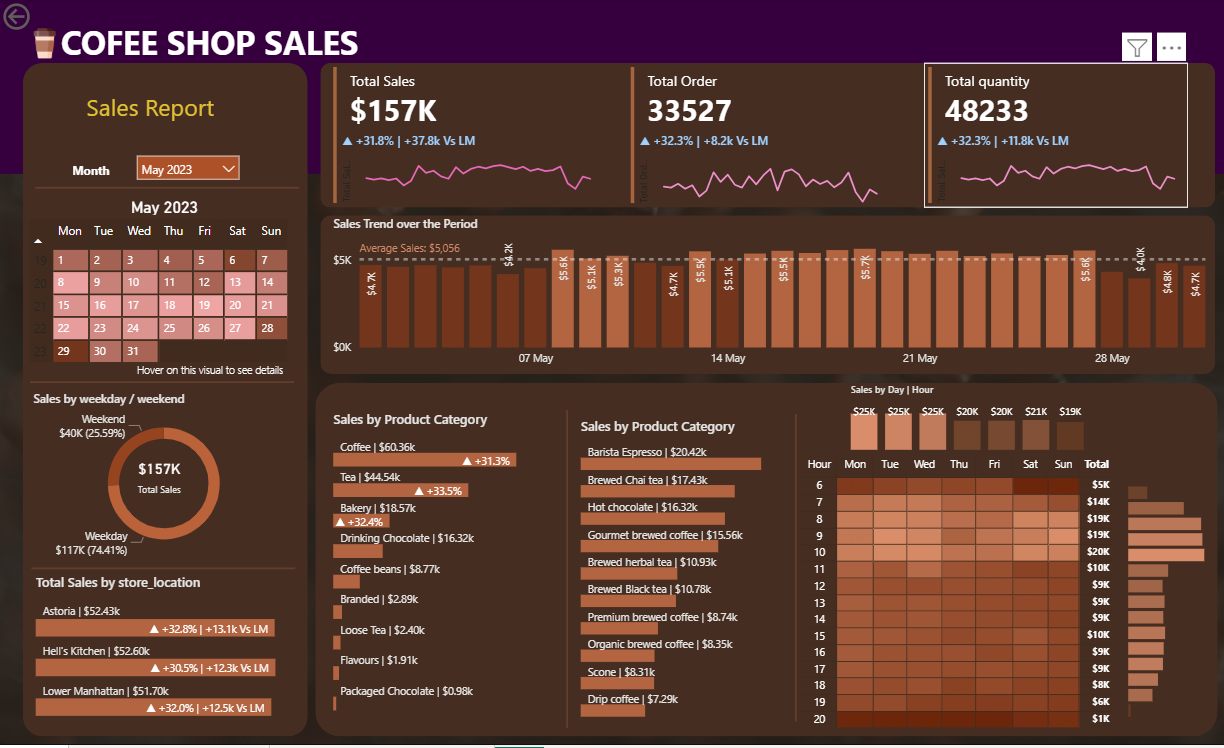

The dashboard page shown, as its layout file describes it:
{"tool":"powerbi","page":{"name":"Page 1","canvas":[1400,850],"ordinal":0},"visuals":[{"type":"shape","box":[0,0,1399.6,199.3],"z":0},{"type":"cardVisual","fields":{"Data":["Transactions.Total Sales"]},"box":[375.9,72.6,313.2,165.2],"z":0,"group":"g2"},{"type":"cardVisual","fields":{"Data":["Transactions.Total Order"]},"box":[714.7,72.6,300.4,165.2],"z":0,"group":"g3"},{"type":"cardVisual","fields":{"Data":["Transactions.Total quantity"]},"box":[1053.6,72.6,300.4,165.2],"z":0,"group":"g4"},{"type":"shape","box":[27.1,72.6,324.6,767.4],"z":1000},{"type":"lineChart","fields":{"Category":["Date Table.Date.Variation.Date Hierarchy.Year","Date Table.Date.Variation.Date Hierarchy.Quarter","Date Table.Date.Variation.Date Hierarchy.Month","Date Table.Date.Variation.Date Hierarchy.Day"],"Y":["Transactions.Total Sales"]},"box":[386.3,152.3,302.8,85.4],"z":1000,"group":"g2"},{"type":"lineChart","fields":{"Category":["Date Table.Date.Variation.Date Hierarchy.Year","Date Table.Date.Variation.Date Hierarchy.Quarter","Date Table.Date.Variation.Date Hierarchy.Month","Date Table.Date.Variation.Date Hierarchy.Day"],"Y":["Transactions.Total Order"]},"box":[724.7,152.3,290.5,85.4],"z":1000,"group":"g3"},{"type":"lineChart","fields":{"Category":["Date Table.Date.Variation.Date Hierarchy.Year","Date Table.Date.Variation.Date Hierarchy.Quarter","Date Table.Date.Variation.Date Hierarchy.Month","Date Table.Date.Variation.Date Hierarchy.Day"],"Y":["Transactions.Total Sales"]},"box":[1063.6,152.3,290.5,85.4],"z":1000,"group":"g4"},{"type":"shape","box":[365.9,72.6,1019.4,165.2],"z":2000},{"type":"textbox","box":[65.5,180.8,78.3,28.5],"z":3000},{"type":"slicer","fields":{"Values":["Date Table.month year"]},"box":[146.6,173.7,132.4,32.7],"z":4000},{"type":"actionButton","box":[0,0,100,40],"z":5000},{"type":"group","id":"g1","title":"Group 1","box":[375.9,72.6,313.2,165.2],"z":6000},{"type":"group","id":"g2","title":"Group 2","box":[375.9,72.6,313.2,165.2],"z":6001,"group":"g1"},{"type":"group","id":"g3","title":"Group 2","box":[714.7,72.6,300.4,165.2],"z":6001,"group":"g5"},{"type":"group","id":"g4","title":"Group 2","box":[1053.6,72.6,300.4,165.2],"z":6001,"group":"g6"},{"type":"group","id":"g5","title":"Group 1","box":[714.7,72.6,300.4,165.2],"z":7000},{"type":"group","id":"g6","title":"Group 1","box":[1053.6,72.6,300.4,165.2],"z":8000},{"type":"pivotTable","fields":{"Columns":["Date Table.Day Name"],"Rows":["Date Table.Week Number"],"Values":["Min(Date Table.Day Number)"]},"box":[29.9,246.3,321.8,187.9],"z":9000},{"type":"card","fields":{"Values":["Min(Date Table.month year)"]},"box":[136.7,223.5,103.9,27.1],"z":10000},{"type":"card","fields":{"Values":["Transactions.Foot Note"]},"box":[121,411.5,239.2,28.5],"z":11000},{"type":"shape","box":[37,640.7,300.4,15.7],"z":12000},{"type":"shape","box":[41.3,206.4,300.4,17.1],"z":13000},{"type":"donutChart","title":" Sales by weekday / weekend","fields":{"Y":["Transactions.Total Sales"],"Category":["Date Table.weekday / weekend"]},"box":[34.2,445.6,307.5,195.1],"z":14000},{"type":"card","fields":{"Values":["Transactions.Total Sales"]},"box":[143.8,516.8,78.3,51.3],"z":15000},{"type":"shape","box":[35.6,428.6,300.4,15.7],"z":16000},{"type":"clusteredBarChart","title":"Total Sales by store_location","fields":{"Category":["Transactions.store_location"],"Y":["Transactions.Placeholder","Transactions.Total Sales"]},"box":[37,653.5,311.8,169.4],"z":17000},{"type":"shape","box":[360.2,437.1,1028,402.9],"z":18000},{"type":"shape","box":[365.9,246.3,1019.4,180.8],"z":19000},{"type":"columnChart","title":"Sales Trend over the Period","fields":{"Category":["Transactions.transaction_date"],"Y":["Transactions.Total Sales"]},"box":[375.9,246.3,1012.3,180.8],"z":20000},{"type":"clusteredBarChart","title":"Sales by Product Category","fields":{"Y":["Transactions.Placeholder","Transactions.Total Sales"],"Category":["Transactions.product_category"]},"box":[375.9,468.4,250.6,347.4],"z":21000},{"type":"shape","box":[626.5,468.4,41.3,361.6],"z":22000},{"type":"clusteredBarChart","title":"Sales by Product Category","fields":{"Y":["Transactions.Placeholder","Transactions.Total Sales"],"Category":["Transactions.product_type"]},"box":[657.8,475.5,250.6,347.4],"z":23000},{"type":"shape","box":[887,472.7,41.3,350.3],"z":24000},{"type":"pivotTable","fields":{"Rows":["Transactions.Hour"],"Columns":["Date Table.Day Name"],"Values":["Transactions.Total Sales"]},"box":[909.8,516.8,385.8,318.9],"z":25000},{"type":"barChart","fields":{"Category":["Transactions.Hour"],"Y":["Transactions.Total Sales"]},"box":[1281.4,542.5,98.2,280.5],"z":26000},{"type":"columnChart","title":"Sales by Day | Hour","fields":{"Y":["Transactions.Total Sales"],"Category":["Date Table.Day Name"]},"box":[965.3,437.1,276.2,82.6],"z":27000},{"type":"textbox","box":[65.5,18.5,373,64.1],"z":28000},{"type":"textbox","box":[75.5,99.7,193.6,52.7],"z":30000},{"type":"image","box":[28.5,28.5,47,44.1],"z":31000}]}

Visuals, with their boxes in screenshot pixels (x1, y1, x2, y2), scaled from the page's 1400x850 canvas onto the 1224x748 screenshot:
shape: [0,0,1223,175]
cardVisual - Transactions.Total Sales: [329,64,602,209]
cardVisual - Transactions.Total Order: [625,64,887,209]
cardVisual - Transactions.Total quantity: [921,64,1184,209]
shape: [24,64,307,739]
lineChart - Date Table.Date.Variation.Date Hierarchy.Year x Date Table.Date.Variation.Date Hierarchy.Quarter: [338,134,602,209]
lineChart - Date Table.Date.Variation.Date Hierarchy.Year x Date Table.Date.Variation.Date Hierarchy.Quarter: [634,134,888,209]
lineChart - Date Table.Date.Variation.Date Hierarchy.Year x Date Table.Date.Variation.Date Hierarchy.Quarter: [930,134,1184,209]
shape: [320,64,1211,209]
textbox: [57,159,126,184]
slicer - Date Table.month year: [128,153,244,182]
actionButton: [0,0,87,35]
"Group 1" group: [329,64,602,209]
"Group 2" group: [329,64,602,209]
"Group 2" group: [625,64,887,209]
"Group 2" group: [921,64,1184,209]
"Group 1" group: [625,64,887,209]
"Group 1" group: [921,64,1184,209]
pivotTable - Date Table.Day Name x Date Table.Week Number: [26,217,307,382]
card - Min(Date Table.month year): [120,197,210,221]
card - Transactions.Foot Note: [106,362,315,387]
shape: [32,564,295,578]
shape: [36,182,299,197]
" Sales by weekday / weekend" donutChart: [30,392,299,564]
card - Transactions.Total Sales: [126,455,194,500]
shape: [31,377,294,391]
"Total Sales by store_location" clusteredBarChart: [32,575,305,724]
shape: [315,385,1214,739]
shape: [320,217,1211,376]
"Sales Trend over the Period" columnChart: [329,217,1214,376]
"Sales by Product Category" clusteredBarChart: [329,412,548,718]
shape: [548,412,584,730]
"Sales by Product Category" clusteredBarChart: [575,418,794,724]
shape: [775,416,812,724]
pivotTable - Transactions.Hour x Date Table.Day Name: [795,455,1133,735]
barChart - Transactions.Hour x Transactions.Total Sales: [1120,477,1206,724]
"Sales by Day | Hour" columnChart: [844,385,1085,457]
textbox: [57,16,383,73]
textbox: [66,88,235,134]
image: [25,25,66,64]
